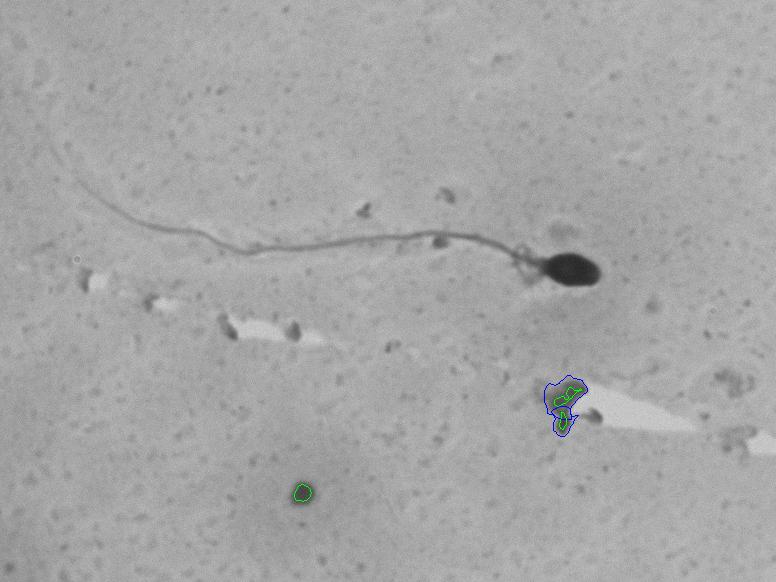Normal: (53, 115, 624, 315)
